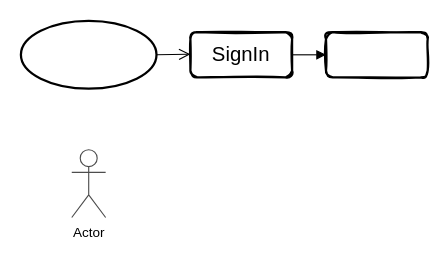
Some shapes in this 447 by 260 pixel diagram are drawn without their labels. The centre of each missing label's shape, as x and y in pixels:
"StartQuiz" belongs at pixel 376 54.
"welcomeScreen" belongs at pixel 88 54.
